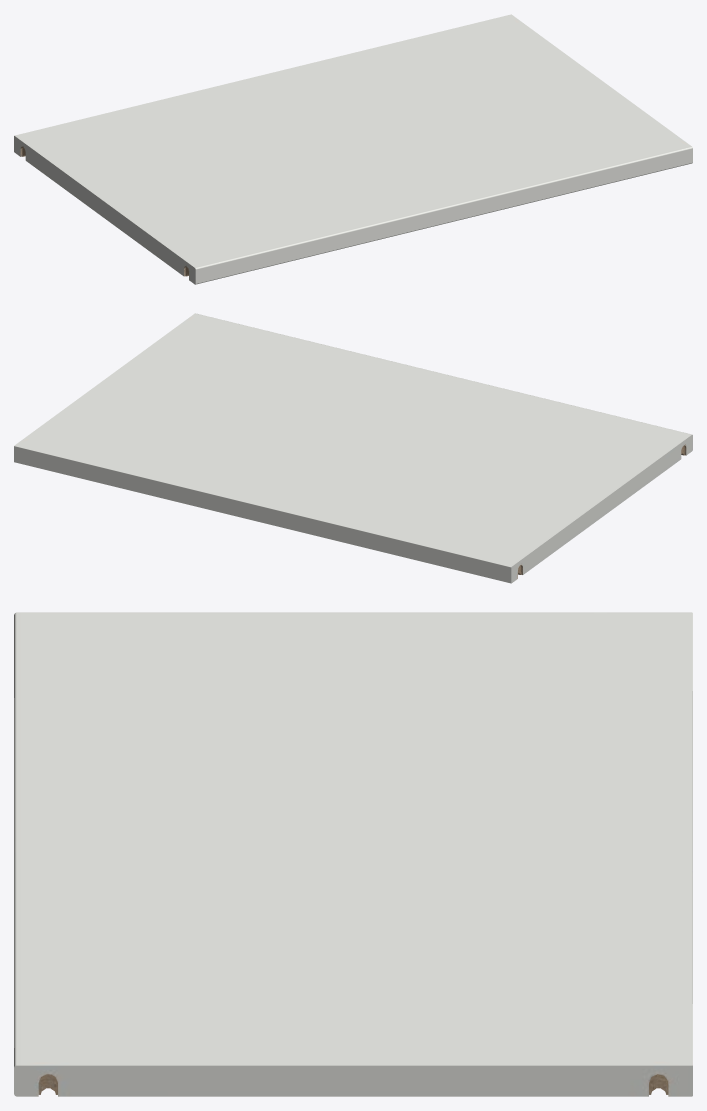
The model's file is besta_poka_00295554.glb.
The picture shows the model from 3 angles, top to bottom: view 1: azimuth 30°, elevation 25°; view 2: azimuth 150°, elevation 25°; view 3: azimuth 270°, elevation 25°; orthographic projection. The views are drawn at different scales.
Parts seen in each view (by area): view 1: besta_poka_00295554; view 2: besta_poka_00295554; view 3: besta_poka_00295554.
Boxes of the visible parts, bbox=[...] form: besta_poka_00295554: bbox=[14, 14, 692, 284]; besta_poka_00295554: bbox=[14, 313, 692, 583]; besta_poka_00295554: bbox=[14, 612, 692, 1096].
Bounding box in the file's own units: 0.5622 × 0.018 × 0.356.
Materials: 1 (1 with a texture image).
